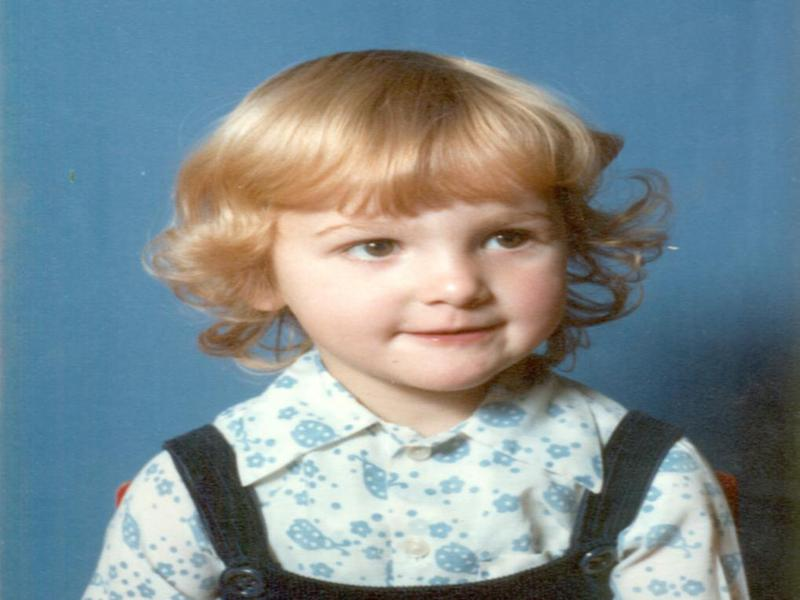person: (104, 52, 748, 600)
